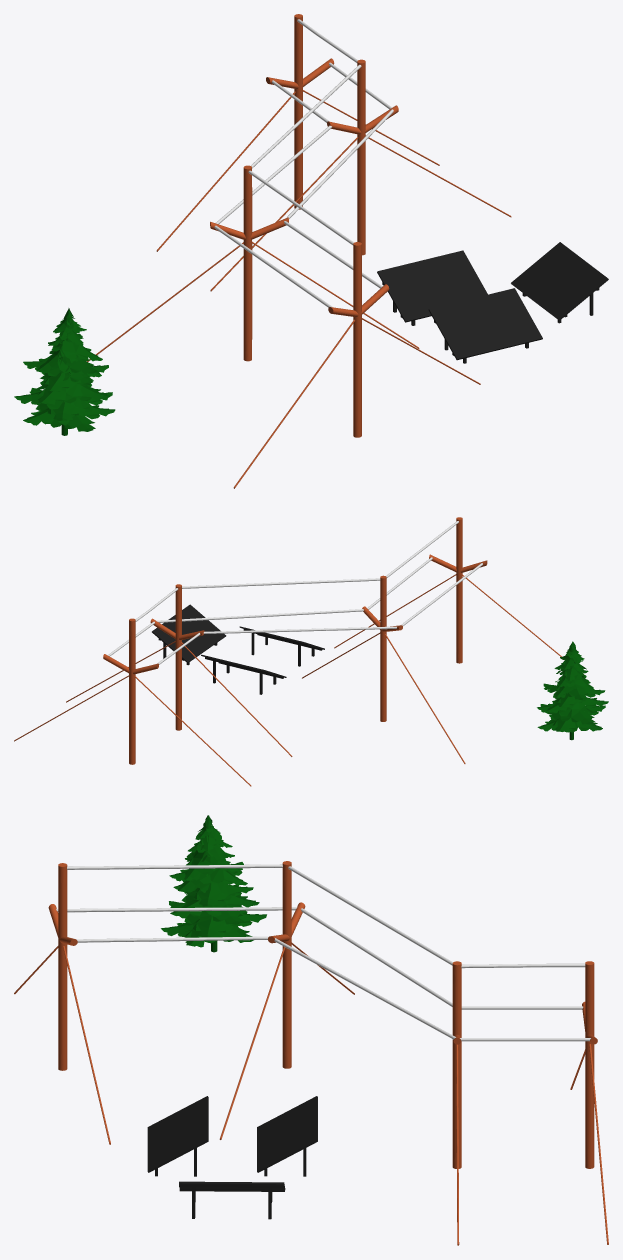
File: four_towers.fbx
3 views of the same model, one above another, from view 1: azimuth 30°, elevation 25°; view 2: azimuth 150°, elevation 25°; view 3: azimuth 270°, elevation 25° (orthographic). The views are drawn at different scales.
Visible parts, largest first — view 1: Stromecky, Cube.002, Cube.003, Cube.004, SingleTowerFusioned.002, SingleTowerFusioned.003, SingleTowerFusioned.001, SingleTowerFusioned, Cylinder.001, Cylinder, Cylinder.002; view 2: Stromecky, SingleTowerFusioned, Cube.004, SingleTowerFusioned.001, SingleTowerFusioned.003, SingleTowerFusioned.002, Cylinder, Cylinder.001, Cylinder.002, Cube.003, Cube.002; view 3: Stromecky, Cube.002, Cube.003, SingleTowerFusioned.002, SingleTowerFusioned.003, SingleTowerFusioned, SingleTowerFusioned.001, Cylinder.001, Cylinder.002, Cylinder, Cube.004.
Part boxes in pixels (x1,y1,x2,y2): Stromecky: [14, 308, 115, 435]; Cube.002: [428, 288, 542, 363]; Cube.003: [377, 250, 487, 325]; Cube.004: [511, 242, 608, 323]; SingleTowerFusioned.002: [87, 165, 419, 361]; SingleTowerFusioned.003: [233, 242, 480, 488]; SingleTowerFusioned.001: [210, 59, 511, 291]; SingleTowerFusioned: [156, 14, 439, 251]; Cylinder.001: [248, 19, 361, 245]; Cylinder: [214, 80, 332, 307]; Cylinder.002: [284, 62, 393, 288]; Stromecky: [537, 641, 608, 740]; SingleTowerFusioned: [14, 618, 251, 786]; Cube.004: [152, 604, 226, 665]; SingleTowerFusioned.001: [66, 584, 292, 756]; SingleTowerFusioned.003: [334, 517, 561, 663]; SingleTowerFusioned.002: [302, 575, 465, 763]; Cylinder: [157, 563, 482, 664]; Cylinder.001: [135, 521, 458, 621]; Cylinder.002: [107, 557, 432, 656]; Cube.003: [201, 654, 286, 694]; Cube.002: [239, 626, 324, 666]; Stromecky: [161, 815, 266, 952]; Cube.002: [147, 1096, 208, 1176]; Cube.003: [257, 1096, 317, 1176]; SingleTowerFusioned.002: [219, 861, 354, 1139]; SingleTowerFusioned.003: [14, 863, 110, 1144]; SingleTowerFusioned: [570, 961, 608, 1244]; SingleTowerFusioned.001: [452, 961, 461, 1245]; Cylinder.001: [67, 864, 585, 968]; Cylinder.002: [76, 936, 590, 1041]; Cylinder: [56, 907, 583, 1009]; Cube.004: [179, 1181, 285, 1219].
Size of the model in its own units: 2418 by 739 by 1947.
